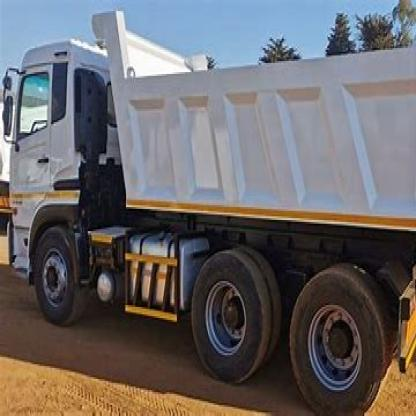dump_truck: (5, 7, 414, 405)
